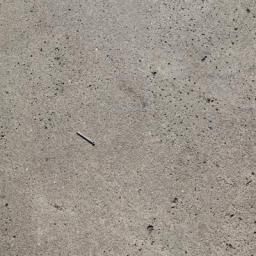FOD: (76, 126, 101, 151)
